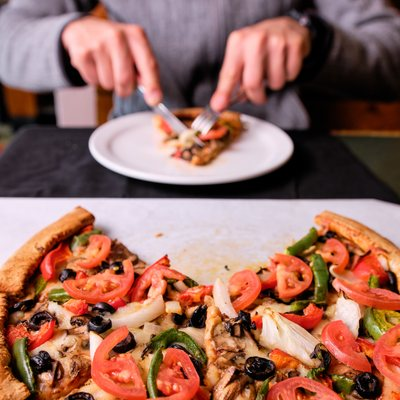sandwich: (137, 84, 192, 135)
